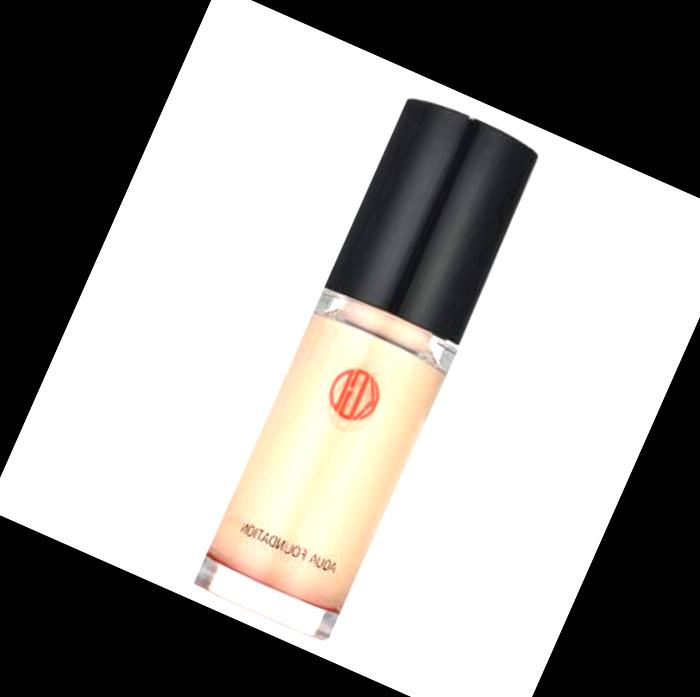cosmetic: (186, 89, 547, 648)
